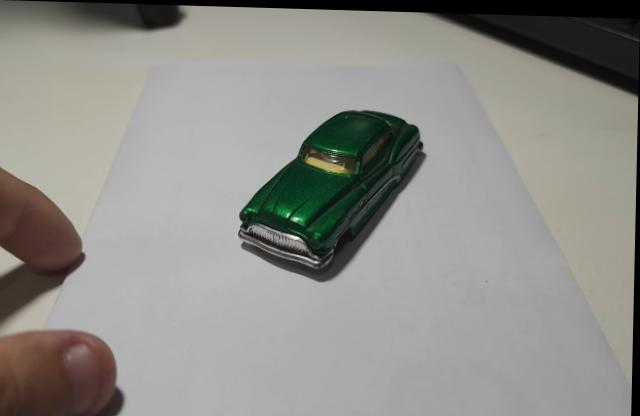06_MASERATI: (238, 108, 428, 273)
